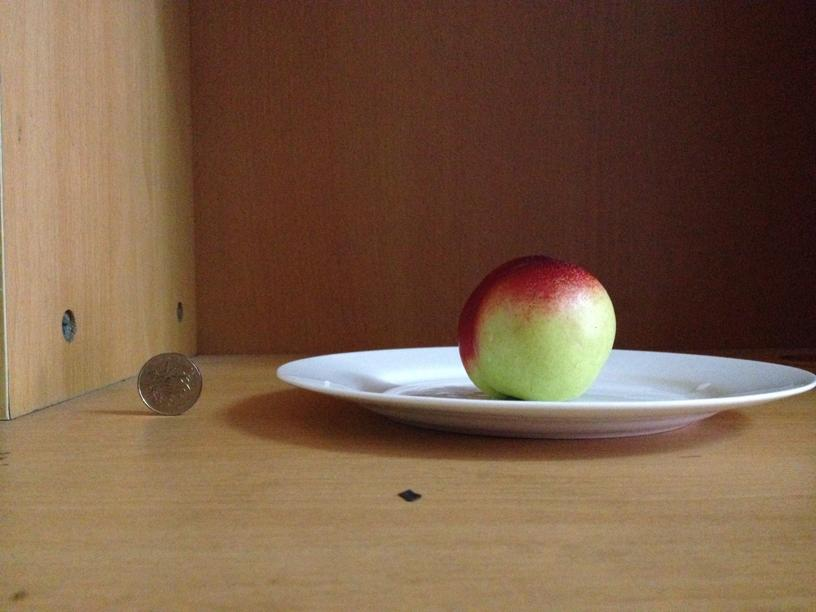coin: (137, 354, 202, 412)
peach: (457, 254, 616, 399)
